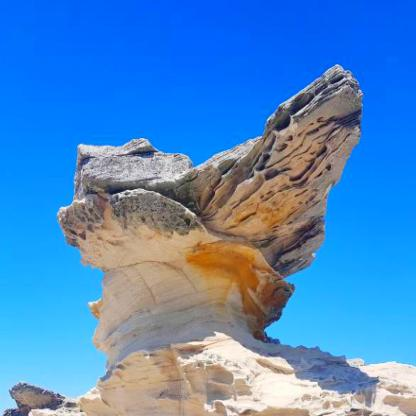Sedimentary_Sandstone: (65, 49, 362, 350)
